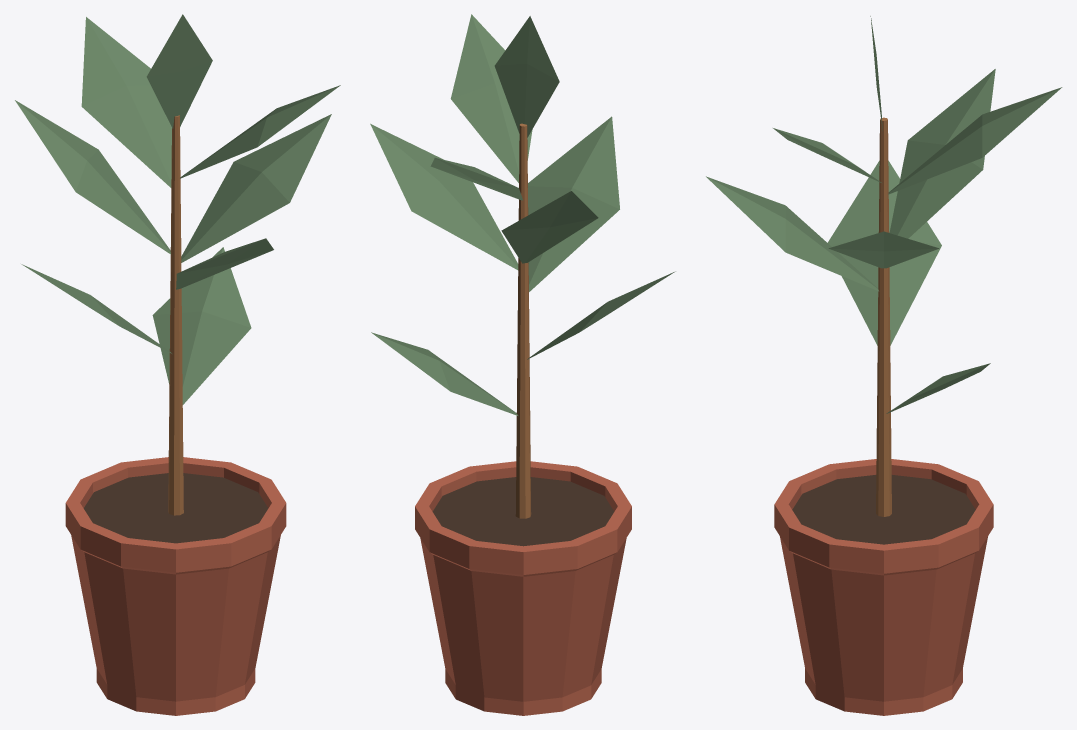
Rendered from terra-plant.glb.
3 renders of one model, left to right at view 1: azimuth 30°, elevation 25°; view 2: azimuth 150°, elevation 25°; view 3: azimuth 270°, elevation 25°, orthographic.
Parts seen in each view (by area): view 1: terra__plant; view 2: terra__plant; view 3: terra__plant.
Part boxes in pixels (left/top/right/bottom): terra__plant: left=15, top=14, right=340, bottom=715; terra__plant: left=370, top=14, right=675, bottom=715; terra__plant: left=706, top=16, right=1062, bottom=715.
Size of the model in its own units: 0.8 by 1.65 by 0.8.
